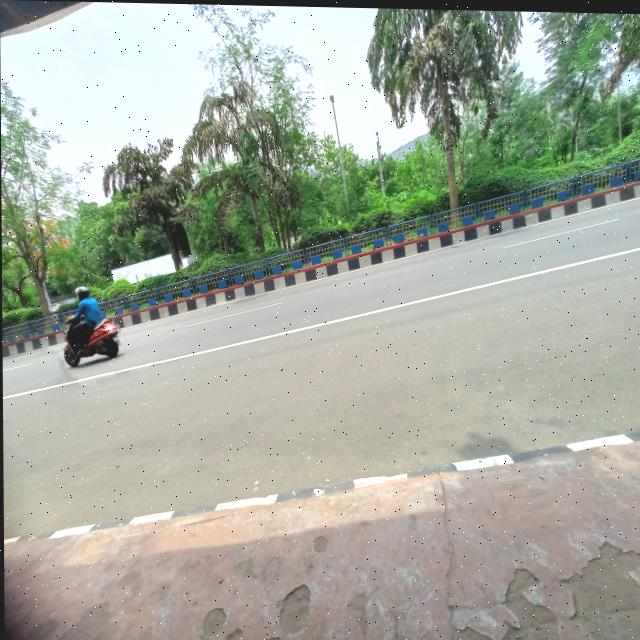bike: (54, 313, 125, 369)
